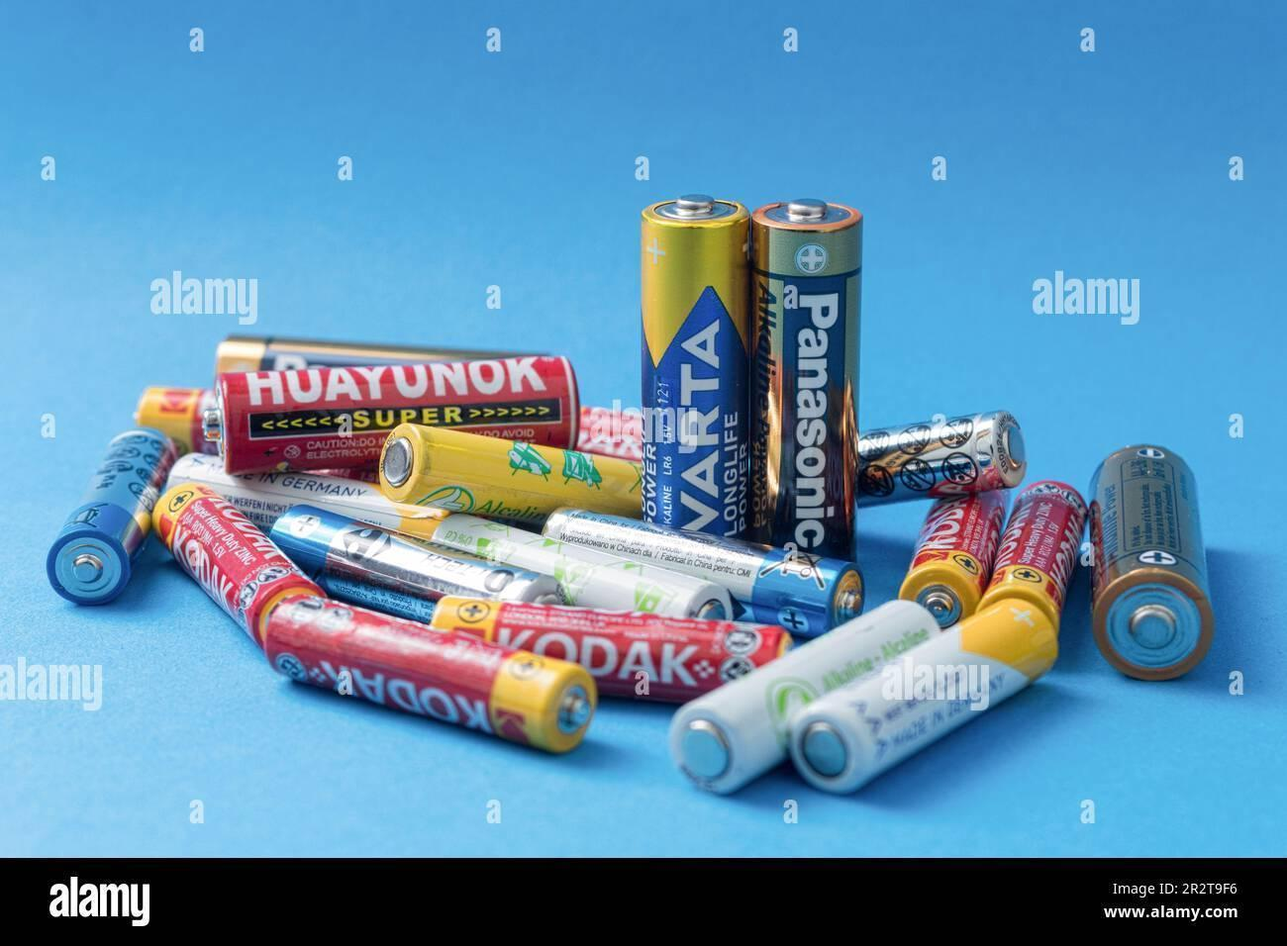AA: (197, 344, 589, 476), (744, 193, 867, 569), (638, 189, 759, 542), (1087, 440, 1219, 690)
AAA: (663, 590, 945, 806), (257, 585, 602, 759), (787, 589, 1071, 799), (370, 418, 649, 531), (40, 421, 189, 616)
